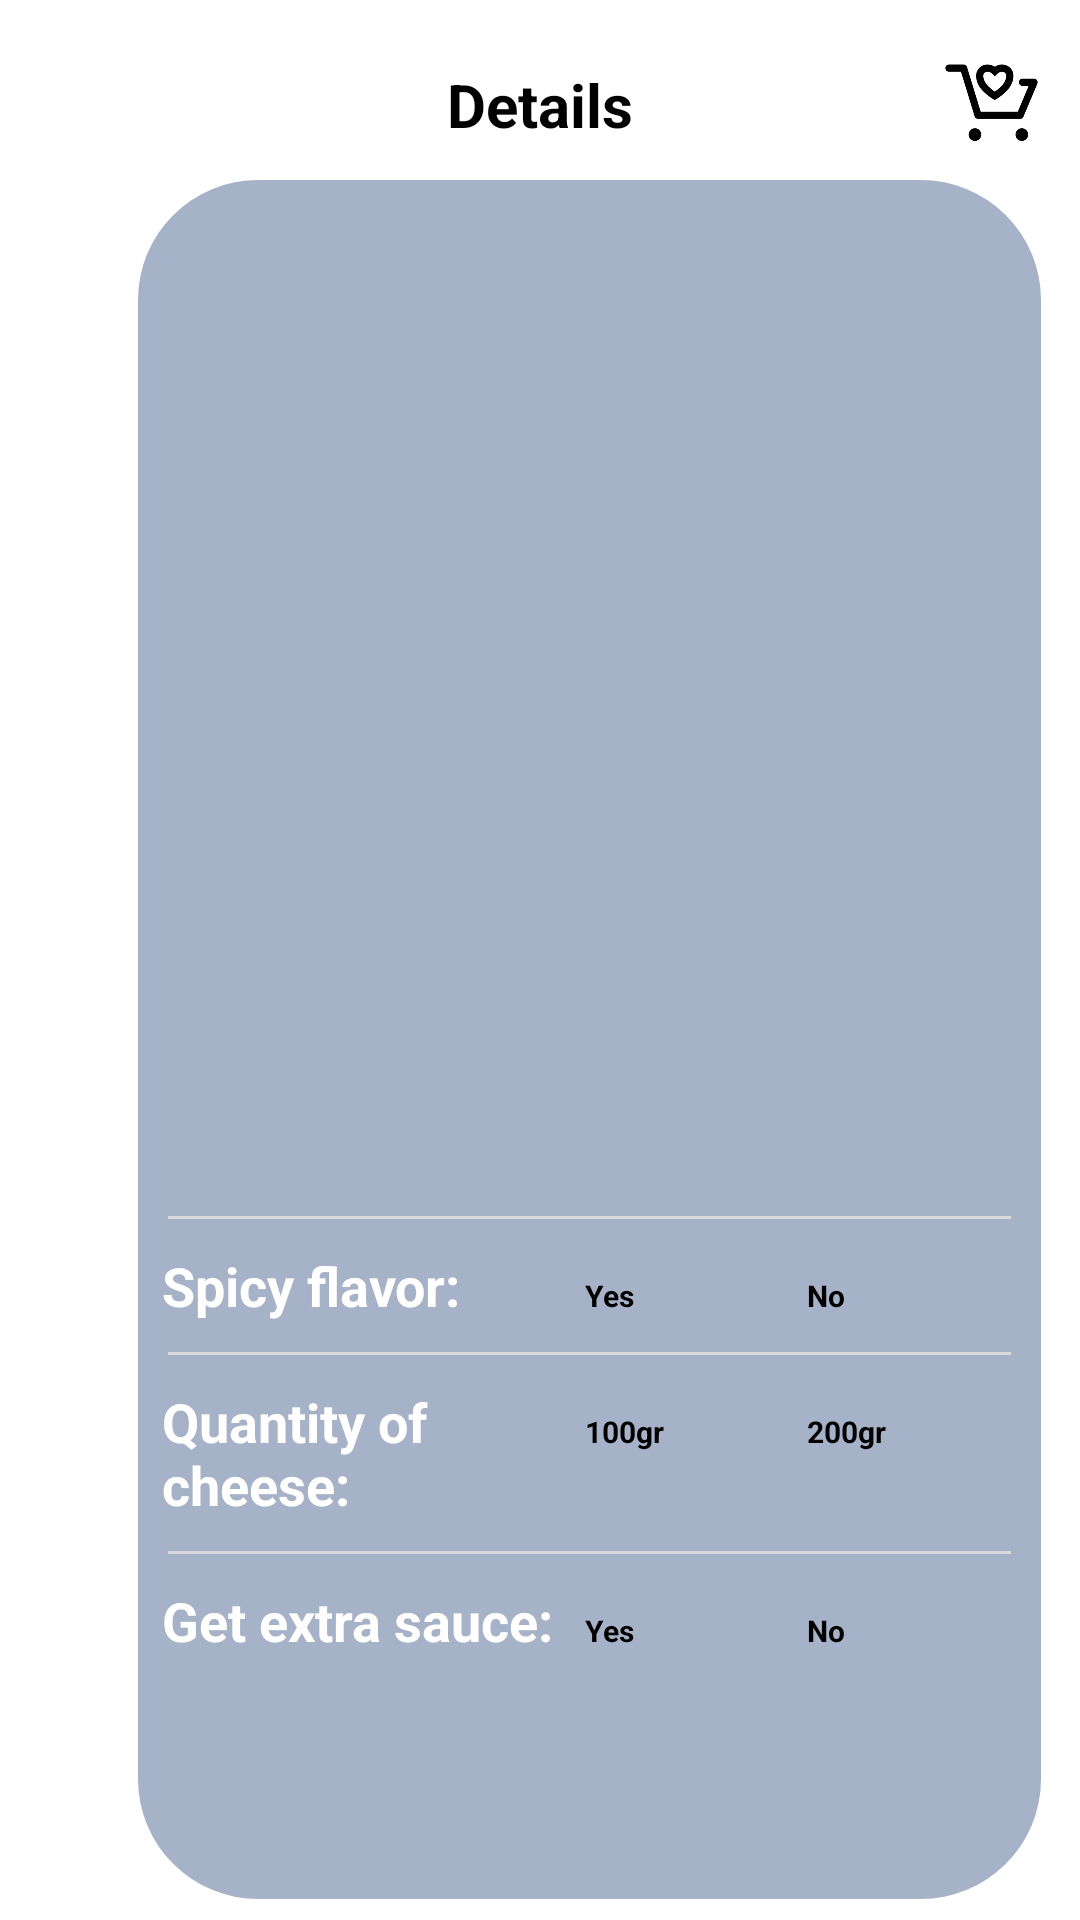

Where to tap for icons on this 1080 × 1920 app screen, as [x,y]:
shopping cart: [991,102]
